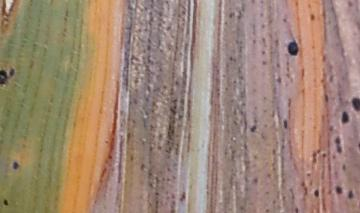tarspot: (1, 66, 18, 85), (285, 40, 301, 57), (334, 133, 343, 154), (339, 110, 351, 124), (311, 148, 321, 164), (350, 96, 360, 111), (334, 184, 344, 196), (10, 159, 21, 169), (236, 7, 243, 22), (312, 188, 321, 199), (178, 191, 186, 203), (228, 9, 235, 22), (346, 189, 354, 199), (249, 124, 257, 134), (282, 119, 289, 130), (327, 123, 334, 134), (2, 198, 11, 206), (323, 92, 329, 103), (340, 163, 347, 172), (260, 48, 267, 57), (282, 16, 288, 25), (260, 59, 267, 66), (293, 205, 299, 213), (309, 13, 314, 22), (320, 152, 327, 158), (305, 171, 311, 177), (357, 142, 360, 149)
